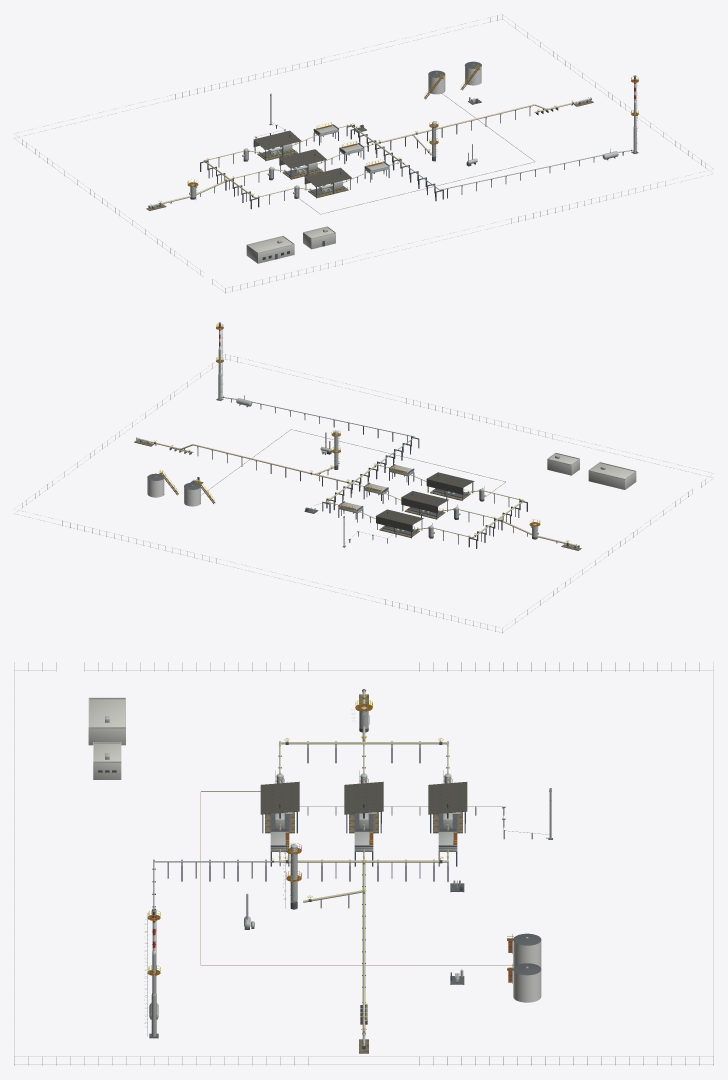
3 renders of one model, top to bottom at view 1: azimuth 30°, elevation 25°; view 2: azimuth 150°, elevation 25°; view 3: azimuth 270°, elevation 25°, orthographic. The views are drawn at different scales.
Parts seen in each view (by area): view 1: SITE__fence, CR-901, K-203, K-202, K-201, SITE__racks, MCC-902, PIPE__R-600, PIPE__R-150; view 2: SITE__fence, CR-901, K-201, K-203, K-202, SITE__racks, MCC-902, TK-402, PIPE__R-600, TK-401; view 3: SITE__fence, K-202, K-201, K-203, CR-901, TK-402, MCC-902, FL-601, TK-401, T-301, PIPE__R-130.
Part boxes in pixels (x1=…): SITE__fence: x1=14, y1=14, x2=713, y2=293; CR-901: x1=246, y1=236, x2=294, y2=263; K-203: x1=253, y1=130, x2=301, y2=161; K-202: x1=279, y1=149, x2=326, y2=179; K-201: x1=304, y1=167, x2=351, y2=198; SITE__racks: x1=200, y1=124, x2=443, y2=209; MCC-902: x1=303, y1=226, x2=335, y2=249; PIPE__R-600: x1=401, y1=148, x2=633, y2=198; PIPE__R-150: x1=412, y1=100, x2=576, y2=141; SITE__fence: x1=14, y1=354, x2=713, y2=633; CR-901: x1=588, y1=462, x2=636, y2=489; K-201: x1=426, y1=472, x2=474, y2=500; K-203: x1=375, y1=509, x2=423, y2=538; K-202: x1=401, y1=491, x2=448, y2=519; SITE__racks: x1=322, y1=436, x2=527, y2=548; MCC-902: x1=547, y1=452, x2=579, y2=475; TK-402: x1=147, y1=470, x2=178, y2=497; PIPE__R-600: x1=221, y1=395, x2=414, y2=468; TK-401: x1=184, y1=478, x2=215, y2=506; SITE__fence: x1=14, y1=662, x2=713, y2=1065; K-202: x1=344, y1=781, x2=383, y2=833; K-201: x1=260, y1=781, x2=299, y2=833; K-203: x1=428, y1=782, x2=467, y2=833; CR-901: x1=88, y1=697, x2=125, y2=745; TK-402: x1=507, y1=963, x2=541, y2=1002; MCC-902: x1=93, y1=742, x2=121, y2=779; FL-601: x1=144, y1=910, x2=160, y2=1038; TK-401: x1=507, y1=933, x2=541, y2=967; T-301: x1=283, y1=843, x2=301, y2=909; PIPE__R-130: x1=280, y1=856, x2=447, y2=878.
Size of what is drawn, in the model's own units: 200 by 30.3 by 150.
Materials: 142 (16 with a texture image).
